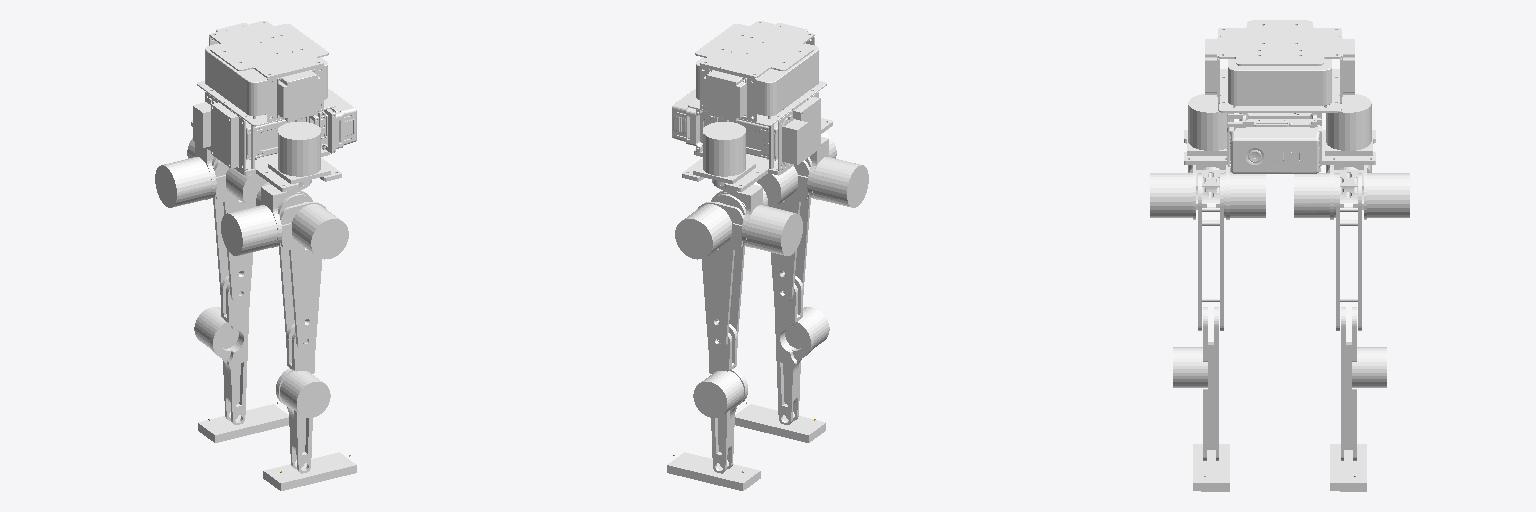
--- Facts derived from the render (not from the file) ---
Views: 3 orthographic renders of the robot side by side, from view 1: azimuth 30°, elevation 25°; view 2: azimuth 150°, elevation 25°; view 3: azimuth 270°, elevation 25°.
Robot: hunter — 16 links, 15 joints (10 revolute, 5 fixed); root link base_link; default pose: every joint at zero.
Visible links, largest first — view 1: base_link, leg_l4_link, leg_r4_link, leg_r3_link, leg_r2_link, leg_l3_link, leg_r1_link, leg_l2_link, leg_r5_link, leg_l5_link, leg_l1_link; view 2: base_link, leg_r4_link, leg_l4_link, leg_l3_link, leg_l2_link, leg_r3_link, leg_l1_link, leg_r2_link, leg_l5_link, leg_r5_link, leg_r1_link; view 3: base_link, leg_r4_link, leg_l4_link, leg_l3_link, leg_r3_link, leg_l1_link, leg_r1_link, leg_r5_link, leg_l5_link.
Link boxes in pixels (x1,y1,x2,y2): base_link: [191, 21, 356, 191]; leg_l4_link: [194, 276, 249, 424]; leg_r4_link: [276, 324, 330, 473]; leg_r3_link: [256, 182, 321, 351]; leg_r2_link: [221, 180, 311, 255]; leg_l3_link: [212, 157, 266, 302]; leg_r1_link: [279, 191, 348, 259]; leg_l2_link: [155, 143, 216, 207]; leg_r5_link: [263, 452, 356, 490]; leg_l5_link: [198, 404, 288, 442]; leg_l1_link: [187, 138, 236, 201]; base_link: [672, 21, 832, 191]; leg_r4_link: [774, 276, 829, 424]; leg_l4_link: [693, 324, 747, 473]; leg_l3_link: [702, 182, 767, 350]; leg_l2_link: [712, 180, 802, 255]; leg_r3_link: [757, 157, 811, 302]; leg_l1_link: [675, 191, 744, 259]; leg_r2_link: [807, 137, 868, 207]; leg_l5_link: [667, 452, 760, 490]; leg_r5_link: [735, 404, 825, 442]; leg_r1_link: [787, 132, 836, 201]; base_link: [1184, 20, 1375, 173]; leg_r4_link: [1173, 307, 1218, 460]; leg_l4_link: [1341, 307, 1386, 460]; leg_l3_link: [1294, 173, 1361, 330]; leg_r3_link: [1198, 172, 1265, 330]; leg_l1_link: [1330, 165, 1409, 219]; leg_r1_link: [1150, 165, 1229, 219]; leg_r5_link: [1193, 444, 1229, 491]; leg_l5_link: [1330, 444, 1366, 491].
Bounding box of the posed robot: 0.1781 × 0.2822 × 0.51 m (x, y, z).
Meshes: 9 distinct files referenced, 9 mesh visuals loaded (9 binary STL).

The robot description file, URDF, robot "hunter":
<?xml version="1.0" encoding="utf-8"?>
<!--
This URDF was automatically created by SolidWorks to URDF Exporter! Originally created by Stephen Brawner ([email redacted])
Commit Version: 1.6.0-4-g7f85cfe  Build Version: 1.6.7995.38578
For more information, please see http://wiki.ros.org/sw_urdf_exporter
-->
<robot name="hunter">
	<mujoco>
    <compiler 
    meshdir="../meshes_pi/" 
    balanceinertia="true" 
    discardvisual="false" />
    </mujoco>


	<gazebo>
    <plugin name="gazebo_ros_control" filename="libhunter_bipedal_hw_sim.so">
      <robotNamespace>/</robotNamespace>
      <robotParam>legged_robot_description</robotParam>
      <robotSimType>legged_gazebo/LeggedHWSim</robotSimType>
    </plugin>
  	</gazebo>

  	<gazebo>
    <plugin filename="libgazebo_ros_p3d.so" name="p3d_base_controller">
      <alwaysOn>true</alwaysOn>
      <updateRate>500.0</updateRate>
      <bodyName>base_link</bodyName>
      <topicName>ground_truth/state</topicName>
      <gaussianNoise>0</gaussianNoise>
      <frameName>world</frameName>
      <xyzOffsets>0 0 0</xyzOffsets>
      <rpyOffsets>0 0 0</rpyOffsets>
    </plugin>
  	</gazebo>

	<link name="base_link">
		<inertial>
			<origin xyz="0.0019276 -4.6272E-05 0.062874" rpy="0 0 0" />
			<mass value="1.6042619" />
			<inertia ixx="0.0096904" ixy="-0.0001519" ixz="0.0004705" iyy="0.0098326" iyz="-0.0000665" izz="0.0043652" />
		</inertial>
		<visual>
			<origin xyz="0 0 0" rpy="0 0 0" />
			<geometry>
				<mesh filename="package://legged_hunter_description/meshes_pi/base_link.STL" />
			</geometry>
			<material name="">
				<color rgba="1 1 1 1" />
			</material>
		</visual>
		<collision>
			<!-- <origin xyz="0 0 0" rpy="0 0 0" />
			<geometry>
				<mesh filename="package://legged_hunter_description/meshes_pi/base_link.STL" />
			</geometry> -->
			<origin rpy="0 0 0" xyz="0 0 0.045" />
			<geometry>
				<box size="0.1 0.1 0.09" />
			</geometry>
		</collision>
	</link>

	  <joint name="imu_joint" type="fixed">
    <origin rpy="0. 0. 0." xyz="0. 0. 0"/>
    <parent link="base_link"/>
    <child link="imu_link"/>
  </joint>
  <!-- Imu link -->
  <link name="imu_link">
    <inertial>
      <mass value="0.01"/>
      <origin rpy="0 0 0" xyz="0 0 0"/>
      <inertia ixx="0.000001" ixy="0" ixz="0" iyy="0.000001" iyz="0" izz="0.000001"/>
    </inertial>
    <visual>
      <origin rpy="0 0 0" xyz="0 0 0"/>
      <geometry>
        <box size="0.015 0.015 0.004"/>
      </geometry>
    </visual>
    <material name="orange">
      <color rgba="255 108 10 255"/>
    </material>
  </link>
	  <gazebo reference="imu_joint">
    <disableFixedJointLumping>true</disableFixedJointLumping>
  </gazebo>




  <!-- ************************************************************ -->
  <!-- ************************ right Leg ************************** -->
  <!-- ************************************************************ -->

	<!-- yaw L2 -->
	<joint name="leg_r2_joint" type="revolute">
		<origin xyz="0 -0.075 0" rpy="3.1416 0 -1.5708" />
		<parent link="base_link" />
		<child link="leg_r2_link" />
		<axis xyz="0 0 -1" />
		<limit lower="-1" upper="0.5" effort="15" velocity="20" />
	</joint>
	<link name="leg_r2_link">
		<inertial>
			<origin xyz="6.4093E-09 0.056047 0.046574" rpy="0 0 0" />
			<mass value="0.34" />
			<inertia ixx="0.0003820" ixy="0.0000000" ixz="0.0000000"
									 iyy="0.0001983" iyz="0.0001824" 
									 				 izz="0.0001988" />
		</inertial>
		<visual>
			<origin xyz="0 0 0" rpy="0 0 0" />
			<geometry>
				<mesh filename="package://legged_hunter_description/meshes_pi/leg_r2_link.STL" />
			</geometry>
			<material name="">
				<color rgba="1 1 1 1" />
			</material>
		</visual>
		<collision>
			<!-- <origin xyz="0 0 0" rpy="0 0 0" />
			<geometry>
				<mesh filename="package://legged_hunter_description/meshes_pi/right_hip_yaw_link.STL" />
			</geometry> -->
			<origin xyz="0 0 0" rpy="0 0 0" />
			<geometry>
				<box size="0.0001 0.0001 0.0001" />
			</geometry>
		</collision>
	</link>
	

	<!-- roll L1 -->
	<joint name="leg_r1_joint" type="revolute">
		<origin xyz="0 0 0.054" rpy="1.5708 0 0" />
		<parent link="leg_r2_link" />
		<child link="leg_r1_link" />
		<axis xyz="0 0 1" />
		<limit lower="-0.5" upper="0.2" effort="15" velocity="20" />
	</joint>

	<link name="leg_r1_link">
		<inertial>
			<origin xyz="0.030907 0.00085876 -0.0037549" rpy="0 0 0" />
			<mass value="0.367" />
			<inertia ixx="0.0001795" ixy="0.0000000" ixz="0.0000000" 
									 iyy="0.0001796" iyz="-0.0000226" 
									                 izz="0.0000440" />
		</inertial>
		<visual>
			<origin xyz="0 0 0" rpy="0 0 0" />
			<geometry>
				<mesh filename="package://legged_hunter_description/meshes_pi/leg_r1_link.STL" />
			</geometry>
			<material name="">
				<color rgba="1 1 1 1" />
			</material>
		</visual>
		<collision>
			<!-- <origin xyz="0 0 0" rpy="0 0 0" />
			<geometry>
				<mesh filename="package://legged_hunter_description/meshes_pi/right_hip_roll_link.STL" />
			</geometry> -->
			<origin rpy="0 0 0" xyz="0 0 0" />
			<geometry>
				<box size="0.0001 0.0001 0.0001" />
			</geometry>
		</collision>
	</link>

	


	<!-- pitch l3 -->
	<joint name="leg_r3_joint" type="revolute">
		<origin xyz="0 0 0.002" rpy="-1.5708 0 1.5708" />
		<parent link="leg_r1_link" />
		<child link="leg_r3_link" />
		<axis xyz="0 0 1" />
		<limit lower="-1.2" upper="0.8" effort="15" velocity="21"  />
	</joint>
	<link name="leg_r3_link">
		<inertial>
			<origin xyz="0.022326 1.3878E-17 0.023954" rpy="0 0 0" />
			<mass value="0.476" />
			<inertia ixx="0.0000351" ixy="0.0000000" ixz="-0.0000193" 
									  iyy="0.0023912" iyz="0.0000000" 
									  				   izz="0.0023887" />
		</inertial>
		<visual>
			<origin xyz="0 0 0" rpy="0 0 0" />
			<geometry>
				<mesh filename="package://legged_hunter_description/meshes_pi/leg_r3_link.STL" />
			</geometry>
			<material name="">
				<color rgba="1 1 1 1" />
			</material>
		</visual>
		<collision>
			<!-- <origin xyz="0 0 0" rpy="0 0 0" />
			<geometry>
				<mesh filename="package://legged_hunter_description/meshes_pi/right_calf_link.STL" />
			</geometry> -->
			<origin xyz="0.05 0 0.0" rpy="0 1.57 0" />
            <geometry>
                <box size="0.01 0.01 0.09" />
            </geometry>
		</collision>
	</link>

	
	<!-- knee l4 -->
	<joint name="leg_r4_joint" type="revolute">
		<origin xyz="0.15 0 0" rpy="-3.1416 0 0" />
		<parent link="leg_r3_link" />
		<child link="leg_r4_link" />
		<axis xyz="0 0 -1" />
		<limit lower="0" upper="1.5" effort="15" velocity="20" />
	</joint>

	<link name="leg_r4_link">
		<inertial>
			<origin xyz="0.063722 -0.0045962 0.012568" rpy="0 0 0" />
			<mass value="0.361" />
			<inertia ixx="0.0001823" ixy="-0.0001000" ixz="0.0002734" 
									  iyy="0.0019799" iyz="-0.0000342" 
									  				  izz="0.0018988" />
		</inertial>
		<visual>
			<origin xyz="0 0 0" rpy="0 0 0" />
			<geometry>
				<mesh filename="package://legged_hunter_description/meshes_pi/leg_r4_link.STL" />
			</geometry>
			<material name="">
				<color rgba="1 1 1 1" />
			</material>
		</visual>
		<collision>
			<!-- <origin xyz="0 0 0" rpy="0 0 0" />
			<geometry>
				<mesh filename="package://legged_hunter_description/meshes_pi/right_thigh_Link.STL" />
			</geometry> -->
			<origin xyz="0.05 0.0 -0.0" rpy="0 1.57 0" />
			<geometry>
				<box size="0.01 0.01 0.09" />
			</geometry>
		</collision>
	</link>

	
	<!-- ankle L5 -->
	<joint name="leg_r5_joint" type="revolute">
		<origin xyz="0.16 0 0" rpy="3.1416 0 1.5708" />
		<parent link="leg_r4_link" />
		<child link="leg_r5_link" />
		<axis xyz="0 0 1" />
		<limit lower="-1.1" upper="1.1" effort="15" velocity="20" />
	</joint>
	<link name="leg_r5_link">
		<inertial>
			<origin xyz="0.0018242 0.014051 -1.6651E-08" rpy="0 0 0" />
			<mass value="0.089" />
			<inertia ixx="0.0000189" ixy="0.0000034" ixz="0.0000000" 
									 iyy="0.0000420" iyz="0.0000000" 
									  				  izz="0.0000580" />
		</inertial>
		<visual>

			<origin xyz="0.012 0.012 0.0" rpy="1.57 0 0" />
			<!-- <origin xyz="0.0 0.0 -0.02" rpy="0 1.57079 0" /> -->
            <geometry>
                <box size="0.1 0.04 0.01" />
				
				<!-- <mesh filename="package://legged_hunter_description/meshes_pi/leg_r5_link.STL" /> -->
				<!-- <cylinder length="0.1" radius="0.005"/> -->
            </geometry>
			<material name="">
				<color rgba="1 1 1 1" />
			</material>
		</visual>
		<collision>
			<origin xyz="0.012 0.012 0.0" rpy="1.57 0 0" />
			<!-- <origin xyz="0.0 0.0 -0.02" rpy="0 1.57079 0" /> -->
            <geometry>
                <box size="0.1 0.04 0.01" />
				<!-- <cylinder length="0.1" radius="0.005"/> -->
            </geometry>
		</collision>
	</link>

    <!-- ************* fixed *************** -->

	<joint name="leg_r5_fixed_1" type="fixed">
    <origin xyz="0.06 0 -0.007" rpy="0 0 0" />
    <parent link="leg_r5_link" />
    <child link="leg_r_f1_link" />
  </joint>
  <link name="leg_r_f1_link">
    <inertial>
      <mass value="0.01" />
      <inertia ixx="0.000001" ixy="0" ixz="0" iyy="0.000001" iyz="0" izz="0.000001" />
    </inertial>
    <visual>
      <origin rpy="0 0 0" xyz="0 0 0"/>
      <geometry>
        <sphere radius="0.001"/>
      </geometry>
    </visual>
    <collision>
      <origin rpy="0 0 0" xyz="0 0 0"/>
      <geometry>
        <sphere radius="0.001"/>
      </geometry>
    </collision>
  </link>

  <joint name="leg_r5_fixed_2" type="fixed">
    <origin xyz="-0.030 0 -0.007" rpy="0 0 0" />
    <parent link="leg_r5_link" />
    <child link="leg_r_f2_link" />
  </joint>
  <link name="leg_r_f2_link">
    <inertial>
      <mass value="0.01" />
      <inertia ixx="0.000001" ixy="0" ixz="0" iyy="0.000001" iyz="0" izz="0.000001" />
    </inertial>
    <visual>
      <origin rpy="0 0 0" xyz="0 0 0"/>
      <geometry>
        <sphere radius="0.001"/>
      </geometry>
    </visual>
    <collision>
      <origin rpy="0 0 0" xyz="0 0 0"/>
      <geometry>
        <sphere radius="0.001"/>
      </geometry>
    </collision>
  </link>
    <!-- ************* gazebo *************** -->

  <gazebo reference="leg_r2_link">
    <mu1>0.6</mu1>
    <mu2>0.6</mu2>
    <self_collide>1</self_collide>
  </gazebo>
  <gazebo reference="leg_r1_link">
    <mu1>0.6</mu1>
    <mu2>0.6</mu2>
    <self_collide>1</self_collide>
  </gazebo>
  <gazebo reference="leg_r3_link">
    <mu1>0.6</mu1>
    <mu2>0.6</mu2>
    <self_collide>1</self_collide>
  </gazebo>
  <gazebo reference="leg_r4_link">
    <mu1>0.6</mu1>
    <mu2>0.6</mu2>
    <self_collide>1</self_collide>
  </gazebo>
  <gazebo reference="leg_r5_link">
    <mu1>1.5</mu1>
    <mu2>1.5</mu2>
    <self_collide>1</self_collide>
    <kp value="1000000.0"/>
    <kd value="100.0"/>
    <maxVel>1.0</maxVel>
    <minDepth>0.00</minDepth>
  </gazebo>
  <gazebo reference="leg_r_f1_link">
    <mu1>1.5</mu1>
    <mu2>1.5</mu2>
    <self_collide>1</self_collide>
    <kp value="1000000.0"/>
    <kd value="100.0"/>
    <maxVel>1.0</maxVel>
    <minDepth>0.00</minDepth>
  </gazebo>
  <gazebo reference="leg_r_f2_link">
    <mu1>1.5</mu1>
    <mu2>1.5</mu2>
    <self_collide>1</self_collide>
    <kp value="1000000.0"/>
    <kd value="100.0"/>
    <maxVel>1.0</maxVel>
    <minDepth>0.00</minDepth>
  </gazebo>

    <!-- ************* transmission *************** -->


  <transmission name="leg_r1_tran">
    <type>transmission_interface/SimpleTransmission</type>
    <joint name="leg_r1_joint">
      <hardwareInterface>hardware_interface/EffortJointInterface</hardwareInterface>
    </joint>
    <actuator name="leg_r1_motor">
      <hardwareInterface>hardware_interface/EffortJointInterface</hardwareInterface>
      <mechanicalReduction>1</mechanicalReduction>
      	  <maxVelocity>1.484</maxVelocity><!-- 85rpm -->
	<maxEffort>36.0</maxEffort><!-- 36Nm -->
    </actuator>
  </transmission>

  <transmission name="leg_r2_tran">
    <type>transmission_interface/SimpleTransmission</type>
    <joint name="leg_r2_joint">
      <hardwareInterface>hardware_interface/EffortJointInterface</hardwareInterface>
    </joint>
    <actuator name="leg_r2_motor">
      <hardwareInterface>hardware_interface/EffortJointInterface</hardwareInterface>
      <mechanicalReduction>1</mechanicalReduction>
      	  <maxVelocity>2.6545</maxVelocity><!-- 160rpm -->
	  <maxEffort>94.0</maxEffort><!-- 94Nm -->
    </actuator>
  </transmission>

  <transmission name="leg_r3_tran">
    <type>transmission_interface/SimpleTransmission</type>
    <joint name="leg_r3_joint">
      <hardwareInterface>hardware_interface/EffortJointInterface</hardwareInterface>
    </joint>
    <actuator name="leg_r3_motor">
      <hardwareInterface>hardware_interface/EffortJointInterface</hardwareInterface>
      <mechanicalReduction>1</mechanicalReduction>
      	  <maxVelocity>2.6545</maxVelocity><!-- 160rpm -->
	  <maxEffort>94.0</maxEffort><!-- 94Nm -->
    </actuator>
  </transmission>

  <transmission name="leg_r4_tran">
    <type>transmission_interface/SimpleTransmission</type>
    <joint name="leg_r4_joint">
      <hardwareInterface>hardware_interface/EffortJointInterface</hardwareInterface>
    </joint>
    <actuator name="leg_r4_motor">
      <hardwareInterface>hardware_interface/EffortJointInterface</hardwareInterface>
      <mechanicalReduction>1</mechanicalReduction>
      	  <maxVelocity>1.484</maxVelocity><!-- 85rpm -->
	<maxEffort>36.0</maxEffort><!-- 36Nm -->
    </actuator>
  </transmission>

  <transmission name="leg_r5_tran">
    <type>transmission_interface/SimpleTransmission</type>
    <joint name="leg_r5_joint">
      <hardwareInterface>hardware_interface/EffortJointInterface</hardwareInterface>
    </joint>
    <actuator name="leg_r5_motor">
      <hardwareInterface>hardware_interface/EffortJointInterface</hardwareInterface>
      <mechanicalReduction>1</mechanicalReduction>
    </actuator>
  </transmission>


 <!-- ************************************************************ -->
  <!-- ************************ Left Leg ************************** -->
  <!-- ************************************************************ -->

  <!-- ************* part 1 *************** -->

	<joint name="leg_l2_joint" type="revolute">
		<origin xyz="0 0.075 0" rpy="-3.1416 0 -3.1416" />
		<parent link="base_link" />
		<child link="leg_l2_link" />
		<axis xyz="0 0 -1" />
		<limit lower="-0.5" upper="1" effort="15" velocity="20" />
	</joint>
  <link name="leg_l2_link">
		<inertial>
			<origin xyz="0.056047 -6.4093E-09 0.046574" rpy="0 0 0" />
			<mass value="0.34" />
			<inertia ixx="0.0001983" ixy="0.0000000" ixz="0.0001824" 
									 iyy="0.0003820"  iyz="0.0000000" 
									 				   izz="0.0001988" />
		</inertial>
		<visual>
			<origin xyz="0 0 0" rpy="0 0 0" />
			<geometry>
				<mesh filename="package://legged_hunter_description/meshes_pi/leg_l2_link.STL" />
			</geometry>
			<material name="">
				<color rgba="1 1 1 1" />
			</material>
		</visual>
		<collision>
			<!-- <origin xyz="0 0 0" rpy="0 0 0" />
			<geometry>
				<mesh filename="package://legged_hunter_description/meshes_pi/leg_l2_link.STL" />
			</geometry> -->
			<origin xyz="0 0 0" rpy="0 0 0" />
			<geometry>
				<box size="0.0001 0.0001 0.0001" />
			</geometry>
		</collision>
	</link>

  <!-- ************* part 2 *************** -->

  <joint name="leg_l1_joint" type="revolute">
		<origin xyz="0 0 0.054" rpy="-1.5708 0 1.5708" />
		<parent link="leg_l2_link" />
		<child link="leg_l1_link" />
		<axis xyz="0 0 1" />
		<limit lower="-0.2" upper="0.5" effort="15" velocity="20" />
	</joint>

	<link name="leg_l1_link">
		<inertial>
			<origin xyz="0.030907 -0.00085876 -0.0037549" rpy="0 0 0" />
			<mass value="0.12545" />
			<inertia ixx="0.0001795" ixy="0.0000000" ixz="0.0000000" 
			                         iyy="0.0001796" iyz="0.0000226" 
									                 izz="0.0000440" />
		</inertial>
		<visual>
			<origin xyz="0 0 0" rpy="0 0 0" />
			<geometry>
				<mesh filename="package://legged_hunter_description/meshes_pi/leg_l1_link.STL" />
			</geometry>
			<material name="">
				<color rgba="1 1 1 1" />
			</material>
		</visual>
		<collision>
			<!-- <origin xyz="0 0 0" rpy="0 0 0" />
			<geometry>
				<mesh filename="package://legged_hunter_description/meshes_pi/leg_l1_link.STL" />
			</geometry> -->
			<origin rpy="0 0 0" xyz="0 0 0" />
			<geometry>
				<box size="0.0001 0.0001 0.0001" />
			</geometry>
		</collision>
	</link>

  <!-- ************* part 3 *************** -->

	<joint name="leg_l3_joint" type="revolute">
		<origin xyz="0 0 0.002" rpy="1.5708 0 -1.5708" />
		<parent link="leg_l1_link" />
		<child link="leg_l3_link" />
		<axis xyz="0 0 1" />
		<limit lower="-0.8" upper="1.2" effort="15" velocity="20" />
	</joint>

	<link name="leg_l3_link">
		<inertial>
			<origin xyz="0.022326 0 0.023954" rpy="0 0 0" />
			<mass value="0.476" />
			<inertia ixx="0.0000351" ixy="0.0000000" ixz="-0.0000193" 
									 iyy="0.0023912" iyz="0.0000000" 
									 				 izz="0.0023887" />
		</inertial>
		<visual>
			<origin xyz="0 0 0" rpy="0 0 0" />
			<geometry>
				<mesh filename="package://legged_hunter_description/meshes_pi/leg_l3_link.STL" />
			</geometry>
			<material name="">
				<color rgba="1 1 1 1" />
			</material>
		</visual>
		<collision>
			<!-- <origin xyz="0 0 0" rpy="0 0 0" />
			<geometry>
				<mesh filename="package://legged_hunter_description/meshes_pi/leg_l3_link.STL" />
			</geometry> -->
			<origin xyz="0.05 0 0.0" rpy="0 1.57 0" />
			<geometry>
				<box size="0.01 0.01 0.09" />
			</geometry>
		</collision>
	</link>

   <!-- ************* part 4 *************** -->
  <joint name="leg_l4_joint" type="revolute">
		<origin xyz="0.15 0 0" rpy="3.1416 0 0" />
		<parent link="leg_l3_link" />
		<child link="leg_l4_link" />
		<axis xyz="0 0 1" />
		<limit lower="0" upper="1.5" effort="15" velocity="20" />
	</joint>
	<link name="leg_l4_link">
		<inertial>
			<origin xyz="0.063722 0.0045962 0.012568" rpy="0 0 0" />
			<mass value="0.361" />
			<inertia ixx="0.0001823" ixy="0.0001000" ixz="0.0002734" 
									 iyy="0.0019799" iyz="0.0000342" 
									 				 izz="0.0018988" />
		</inertial>
		<visual>
			<origin xyz="0 0 0" rpy="0 0 0" />
			<geometry>
				<mesh filename="package://legged_hunter_description/meshes_pi/leg_l4_link.STL" />
			</geometry>
			<material name="">
				<color rgba="1 1 1 1" />
			</material>
		</visual>
		<collision>
			<origin xyz="0.05 0.0 0.0" rpy="0 1.57 0" />
			<geometry>
				<box size="0.01 0.01 0.09" />
			</geometry>
		</collision>
	</link>
	
    <!-- ************* part 5 *************** -->
  <joint name="leg_l5_joint" type="revolute">
		<origin xyz="0.16 0 0" rpy="3.1416 0 -1.5708" />
		<parent link="leg_l4_link" />
		<child link="leg_l5_link" />
		<axis xyz="0 0 1" />
		<limit lower="-1.1" upper="1.1" effort="15" velocity="20" />
	</joint>

	<link name="leg_l5_link">
		<inertial>
			<origin xyz="0.0018242 -0.014051 1.6804E-08" rpy="1.57 0 0" />
			<mass value="0.089" />
			<inertia ixx="0.0000189" ixy="-0.0000034" ixz="0.0000000" 
								     iyy="0.0000420" iyz="0.0000000" 
									 				  izz="0.0000580" />
		</inertial>
		<visual>
			<origin xyz="0.012 -0.012 0.0" rpy="1.57 0 0" />
			<geometry>
				<box size="0.1 0.04 0.01" />
			</geometry>
			<material name="">
				<color rgba="1 1 1 1" />
			</material>
		</visual>
		<collision>
			<origin xyz="0.012 -0.012 0.0" rpy="1.57 0.0 0" />
			<geometry>
				<box size="0.1 0.04 0.01" />
				<!-- <cylinder length="0.1" radius="0.005"/> -->
			</geometry>
		</collision>
	</link>

    <!-- ************* fixed *************** -->

  <joint name="leg_l5_fixed_1" type="fixed">
    <origin xyz="0.06 0 -0.007" rpy="0 0 0" />
    <parent link="leg_l5_link" />
    <child link="leg_l_f1_link" />
  </joint>
  <link name="leg_l_f1_link">
    <inertial>
      <mass value="0.01" />
      <inertia ixx="0.000001" ixy="0" ixz="0" iyy="0.000001" iyz="0" izz="0.000001" />
    </inertial>
    <visual>
      <origin rpy="0 0 0" xyz="0 0 0"/>
      <geometry>
        <sphere radius="0.001"/>
      </geometry>
    </visual>
    <collision>
      <origin rpy="0 0 0" xyz="0 0 0"/>
      <geometry>
        <sphere radius="0.001"/>
      </geometry>
    </collision>
  </link>

  <joint name="leg_l5_fixed_2" type="fixed">
    <origin xyz="-0.030 0 -0.007" rpy="0 0 0" />
    <parent link="leg_l5_link" />
    <child link="leg_l_f2_link" />
  </joint>
  <link name="leg_l_f2_link">
    <inertial>
      <mass value="0.01" />
      <inertia ixx="0.000001" ixy="0" ixz="0" iyy="0.000001" iyz="0" izz="0.000001" />
    </inertial>
    <visual>
      <origin rpy="0 0 0" xyz="0 0 0"/>
      <geometry>
        <sphere radius="0.001"/>
      </geometry>
    </visual>
    <collision>
      <origin rpy="0 0 0" xyz="-0 0 0"/>
      <geometry>
        <sphere radius="0.001"/>
      </geometry>
    </collision>
  </link>

    <!-- ************* gazebo *************** -->

  <gazebo reference="leg_l1_link">
    <mu1>0.6</mu1>
    <mu2>0.6</mu2>
    <self_collide>1</self_collide>
  </gazebo>
  <gazebo reference="leg_l2_link">
    <mu1>0.6</mu1>
    <mu2>0.6</mu2>
    <self_collide>1</self_collide>
  </gazebo>
  <gazebo reference="leg_l3_link">
    <mu1>0.6</mu1>
    <mu2>0.6</mu2>
    <self_collide>1</self_collide>
  </gazebo>
  <gazebo reference="leg_l4_link">
    <mu1>0.6</mu1>
    <mu2>0.6</mu2>
    <self_collide>1</self_collide>
  </gazebo>
  <gazebo reference="leg_l5_link">
    <mu1>1.5</mu1>
    <mu2>1.5</mu2>
    <self_collide>1</self_collide>
    <kp value="1000000.0"/>
    <kd value="100.0"/>
    <maxVel>1.0</maxVel>
    <minDepth>0.00</minDepth>
  </gazebo>
  <gazebo reference="leg_l_f1_link">
    <mu1>1.5</mu1>
    <mu2>1.5</mu2>
    <self_collide>1</self_collide>
    <kp value="1000000.0"/>
    <kd value="100.0"/>
    <maxVel>1.0</maxVel>
    <minDepth>0.00</minDepth>
  </gazebo>
  <gazebo reference="leg_l_f2_link">
    <mu1>1.5</mu1>
    <mu2>1.5</mu2>
    <self_collide>1</self_collide>
    <kp value="1000000.0"/>
    <kd value="100.0"/>
    <maxVel>1.0</maxVel>
    <minDepth>0.00</minDepth>
  </gazebo>

    <!-- ************* transmission *************** -->

  <transmission name="leg_l1_tran">
    <type>transmission_interface/SimpleTransmission</type>
    <joint name="leg_l1_joint">
      <hardwareInterface>hardware_interface/EffortJointInterface</hardwareInterface>
    </joint>
    <actuator name="leg_l1_motor">
      <hardwareInterface>hardware_interface/EffortJointInterface</hardwareInterface>
      <mechanicalReduction>1</mechanicalReduction>
    <maxVelocity>1.484</maxVelocity><!-- 85rpm -->
	  <maxEffort>36.0</maxEffort><!-- 36Nm -->
    </actuator>
  </transmission>

  <transmission name="leg_l2_tran">
    <type>transmission_interface/SimpleTransmission</type>
    <joint name="leg_l2_joint">
      <hardwareInterface>hardware_interface/EffortJointInterface</hardwareInterface>
    </joint>
    <actuator name="leg_l2_motor">
      <hardwareInterface>hardware_interface/EffortJointInterface</hardwareInterface>
      <mechanicalReduction>1</mechanicalReduction>
    <maxVelocity>2.6545</maxVelocity><!-- 160rpm -->
	  <maxEffort>94.0</maxEffort><!-- 94Nm -->
    </actuator>
  </transmission>

  <transmission name="leg_l3_tran">
    <type>transmission_interface/SimpleTransmission</type>
    <joint name="leg_l3_joint">
      <hardwareInterface>hardware_interface/EffortJointInterface</hardwareInterface>
    </joint>
    <actuator name="leg_l3_motor">
      <hardwareInterface>hardware_interface/EffortJointInterface</hardwareInterface>
      <mechanicalReduction>1</mechanicalReduction>
    <maxVelocity>2.6545</maxVelocity><!-- 160rpm -->
	  <maxEffort>94.0</maxEffort><!-- 94Nm -->
    </actuator>
  </transmission>

  <transmission name="leg_l4_tran">
    <type>transmission_interface/SimpleTransmission</type>
    <joint name="leg_l4_joint">
      <hardwareInterface>hardware_interface/EffortJointInterface</hardwareInterface>
    </joint>
    <actuator name="leg_l4_motor">
      <hardwareInterface>hardware_interface/EffortJointInterface</hardwareInterface>
      <mechanicalReduction>1</mechanicalReduction>
    <maxVelocity>1.484</maxVelocity><!-- 85rpm -->
	<maxEffort>36.0</maxEffort><!-- 36Nm -->
    </actuator>
  </transmission>

  <transmission name="leg_l5_tran">
    <type>transmission_interface/SimpleTransmission</type>
    <joint name="leg_l5_joint">
      <hardwareInterface>hardware_interface/EffortJointInterface</hardwareInterface>
    </joint>
    <actuator name="leg_l5_motor">
      <hardwareInterface>hardware_interface/EffortJointInterface</hardwareInterface>
      <mechanicalReduction>1</mechanicalReduction>
    </actuator>
  </transmission>
</robot>
